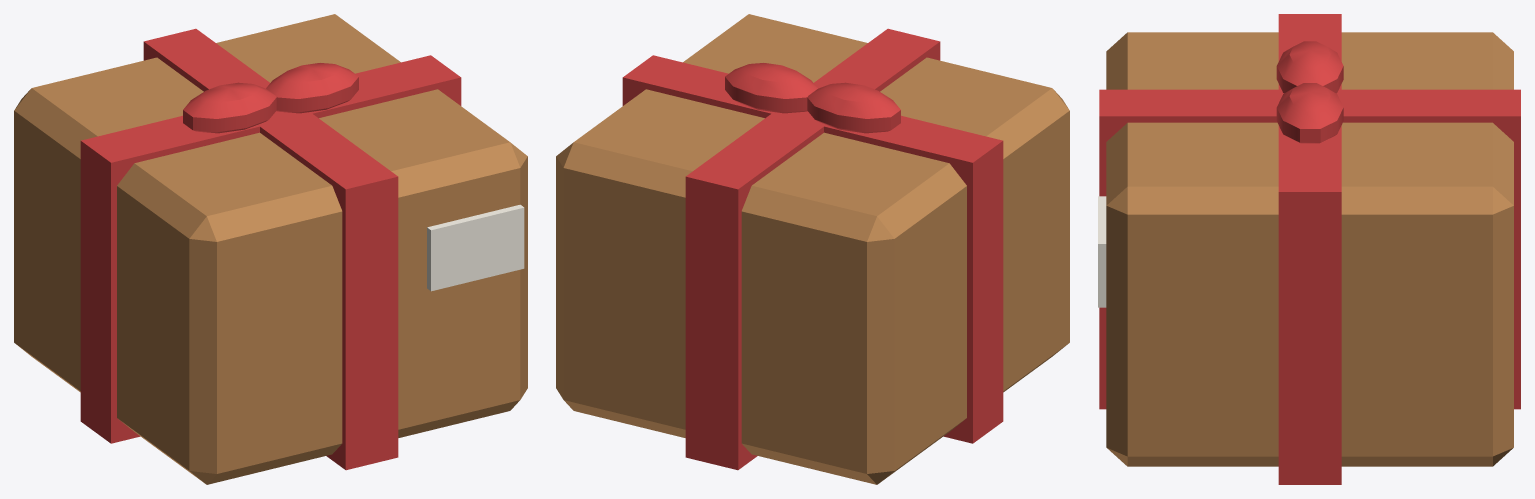
The model's file is parcel.glb.
3 renders of one model, left to right at view 1: azimuth 30°, elevation 25°; view 2: azimuth 150°, elevation 25°; view 3: azimuth 270°, elevation 25°, orthographic. The views are drawn at different scales.
Visible parts, largest first — view 1: parcel; view 2: parcel; view 3: parcel.
Boxes of the visible parts, bbox=[...] form: parcel: bbox=[14, 14, 527, 484]; parcel: bbox=[556, 14, 1069, 484]; parcel: bbox=[1098, 14, 1520, 484].
Size of the model in its own units: 0.6 by 0.51 by 0.602.
